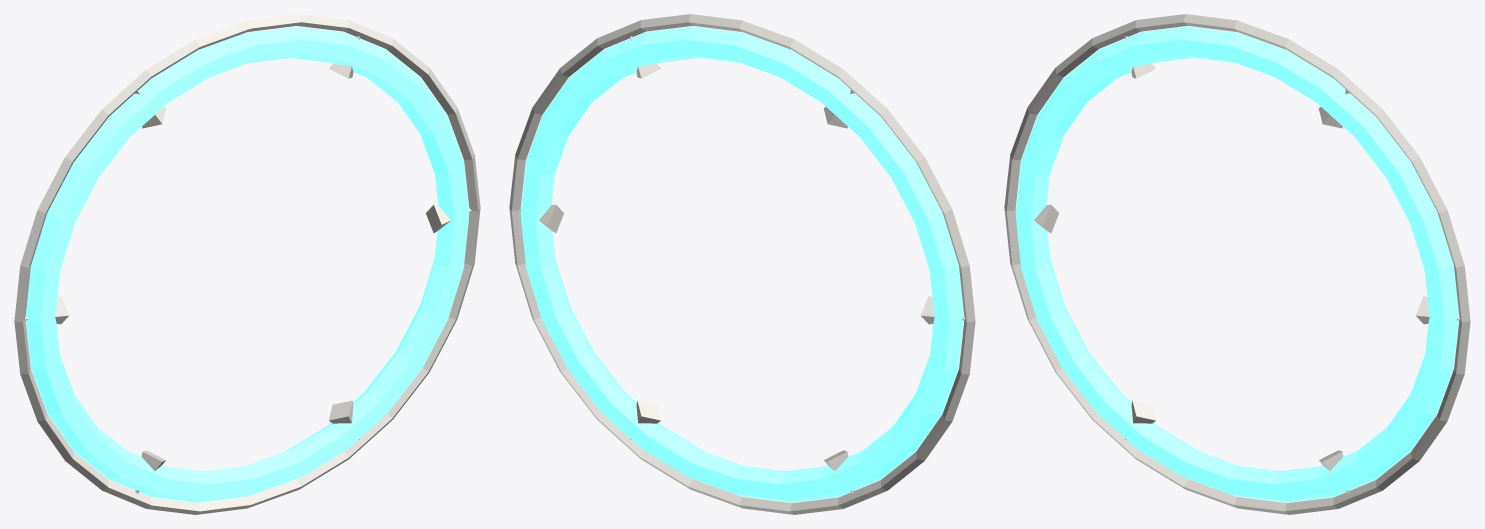
The model's file is boost_ring.glb.
3 views of the same model, side by side, from view 1: azimuth 30°, elevation 25°; view 2: azimuth 150°, elevation 25°; view 3: azimuth 330°, elevation 25° (orthographic).
Parts seen in each view (by area): view 1: BoostRing; view 2: BoostRing; view 3: BoostRing.
Boxes of the visible parts, <box> form: BoostRing: <box>14,14,480,514</box>; BoostRing: <box>509,14,975,514</box>; BoostRing: <box>1004,14,1470,514</box>.
Bounding box in the file's own units: 10.14 × 10.14 × 0.6.
